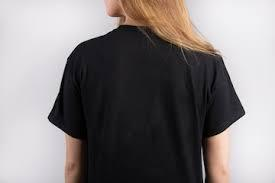Tshirt: (47, 23, 246, 183)
